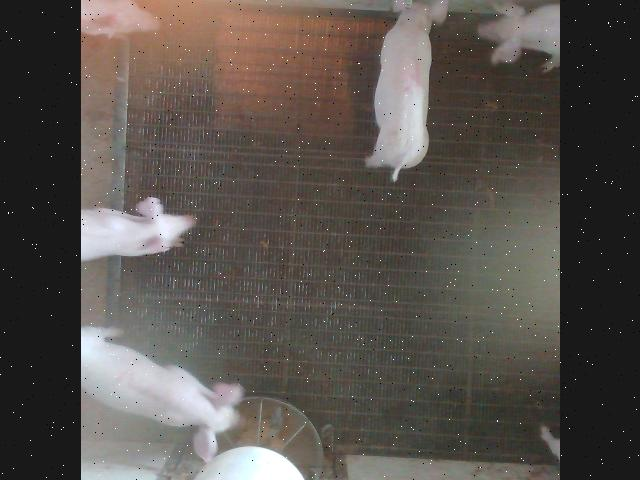pig-3: (81, 328, 242, 461)
pig-4: (366, 0, 447, 181)
